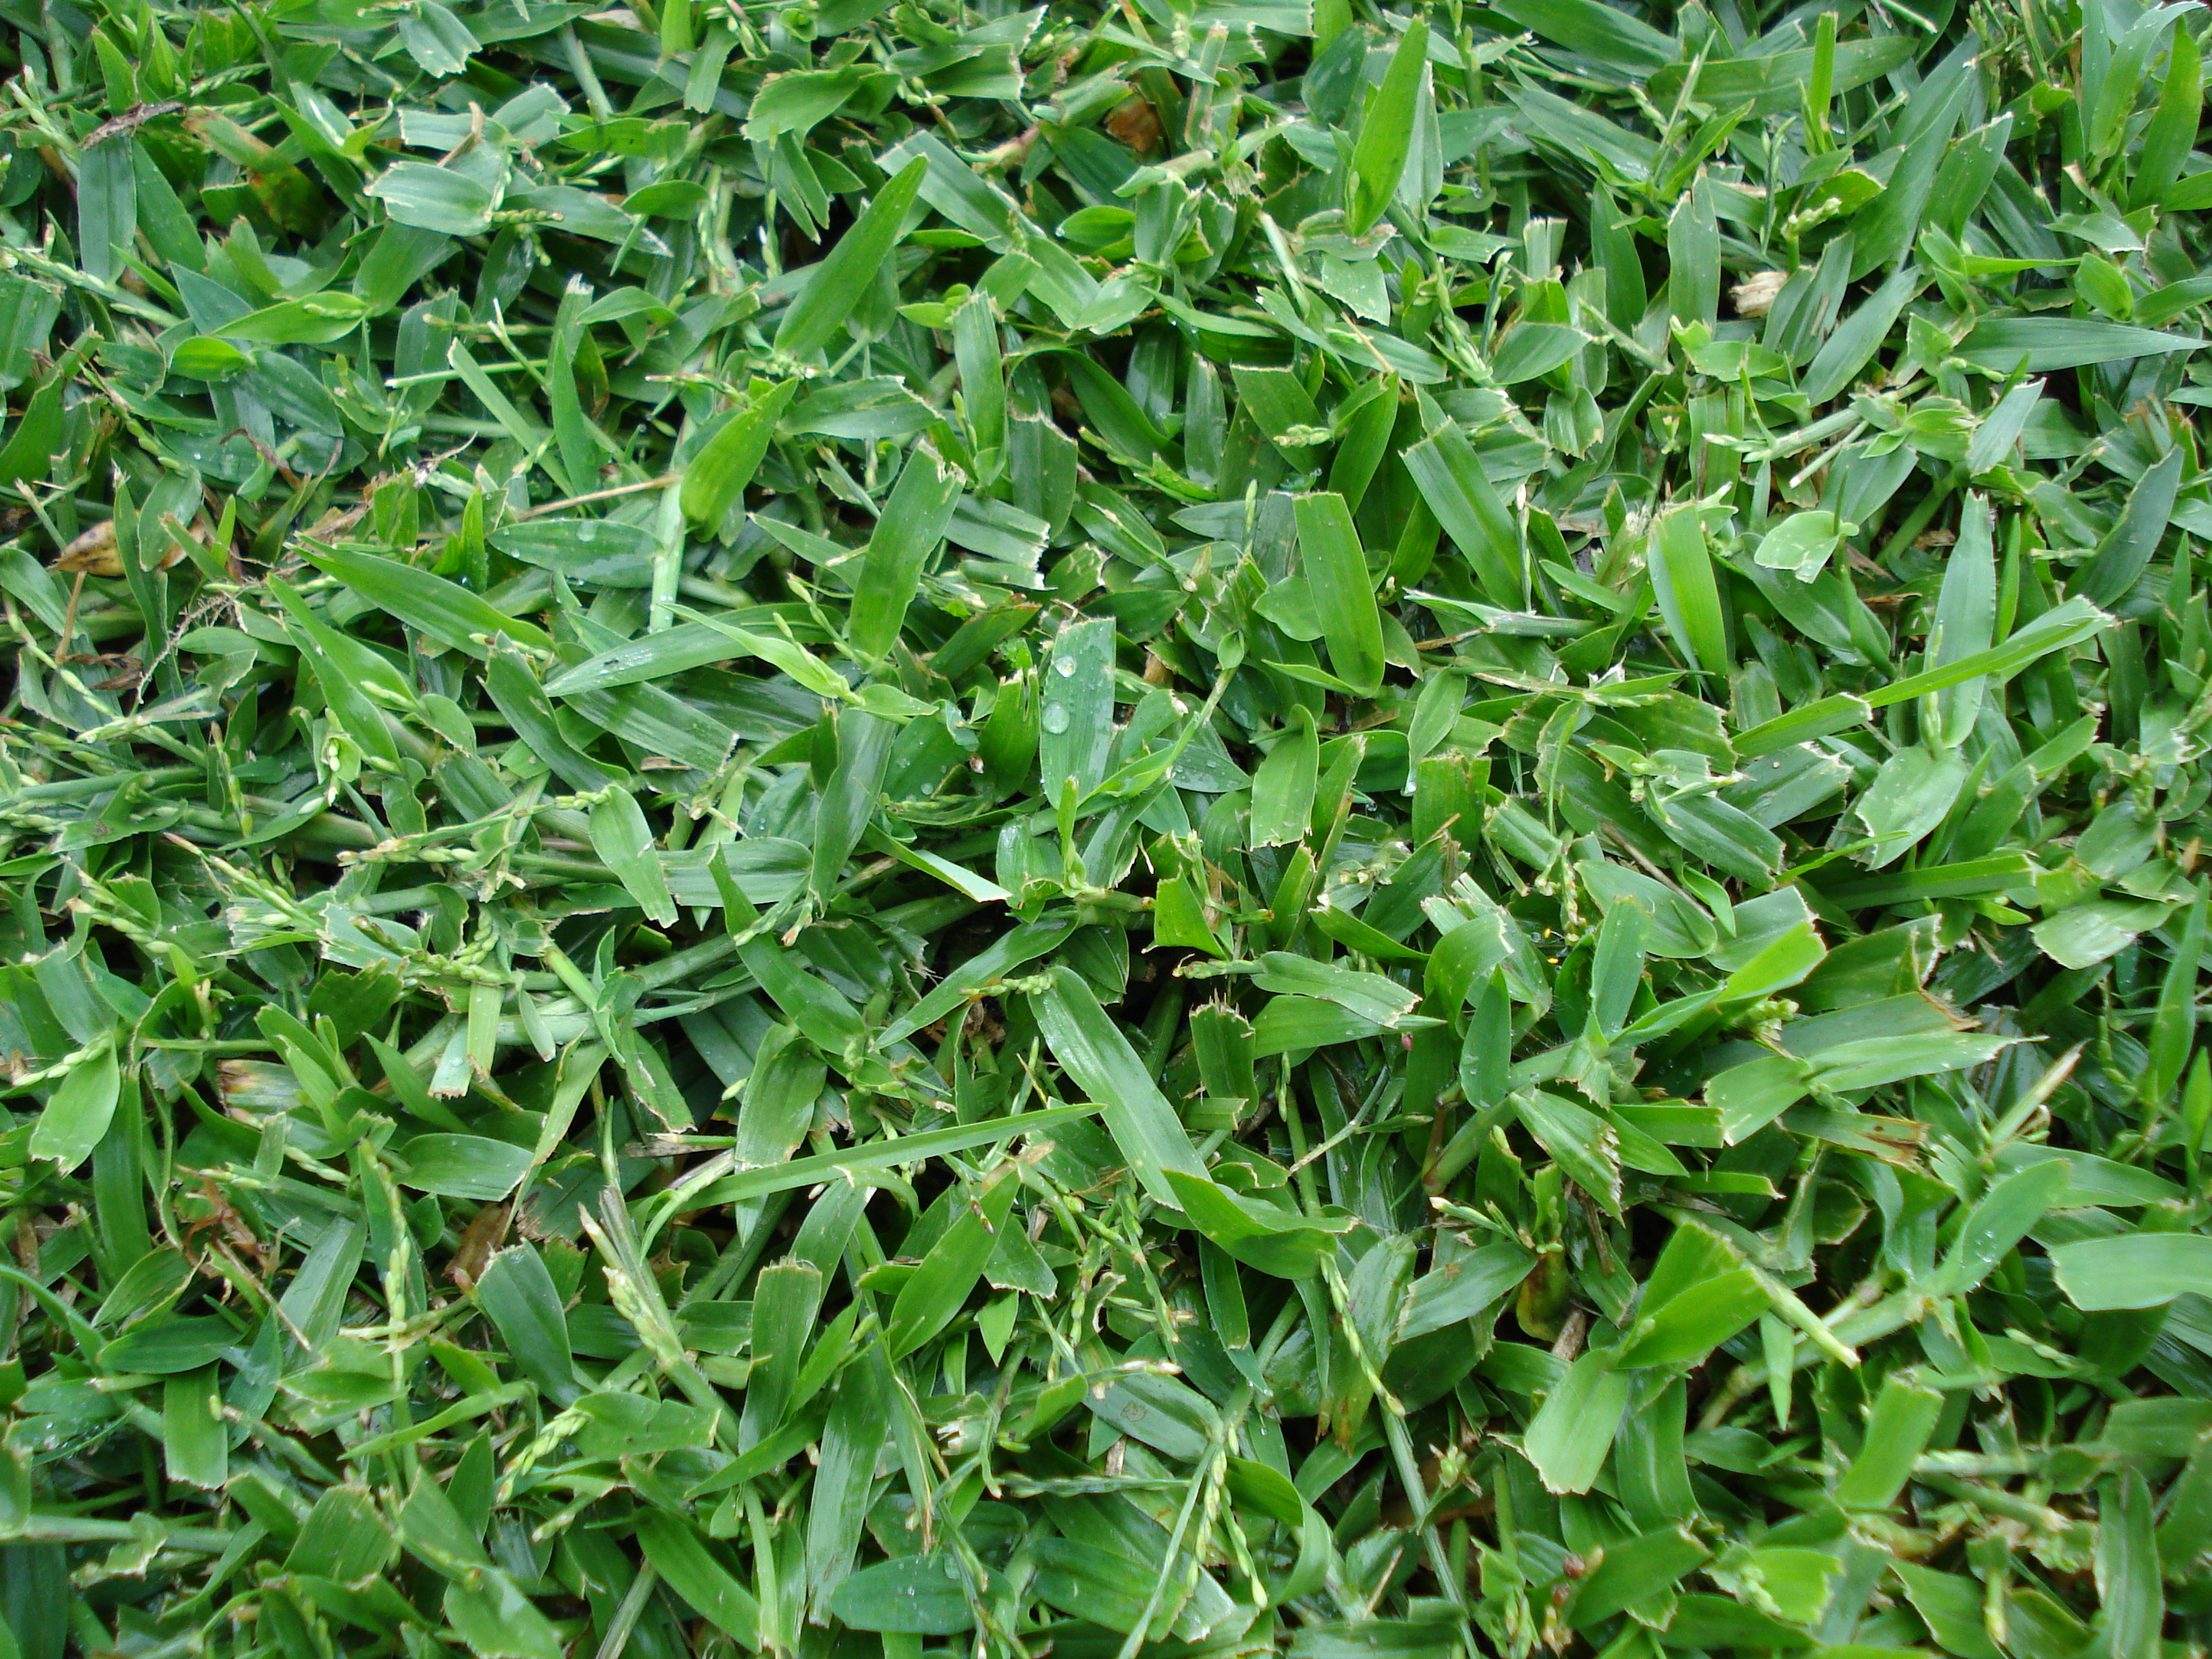crabgrass: (317, 240, 2055, 1511)
